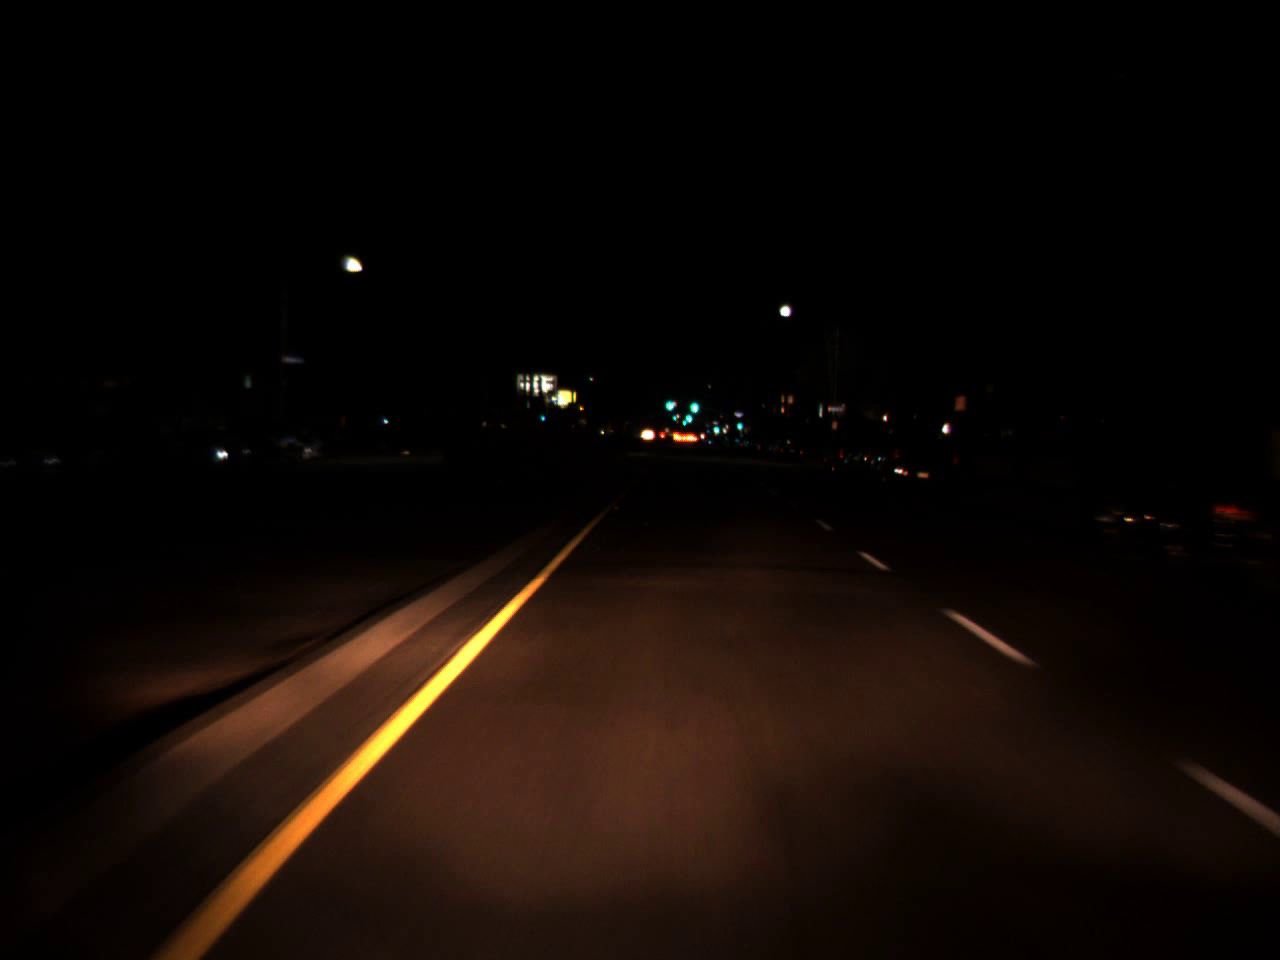go: (663, 391, 673, 412), (689, 395, 699, 416), (683, 406, 693, 424), (711, 419, 720, 435), (736, 418, 743, 430)
